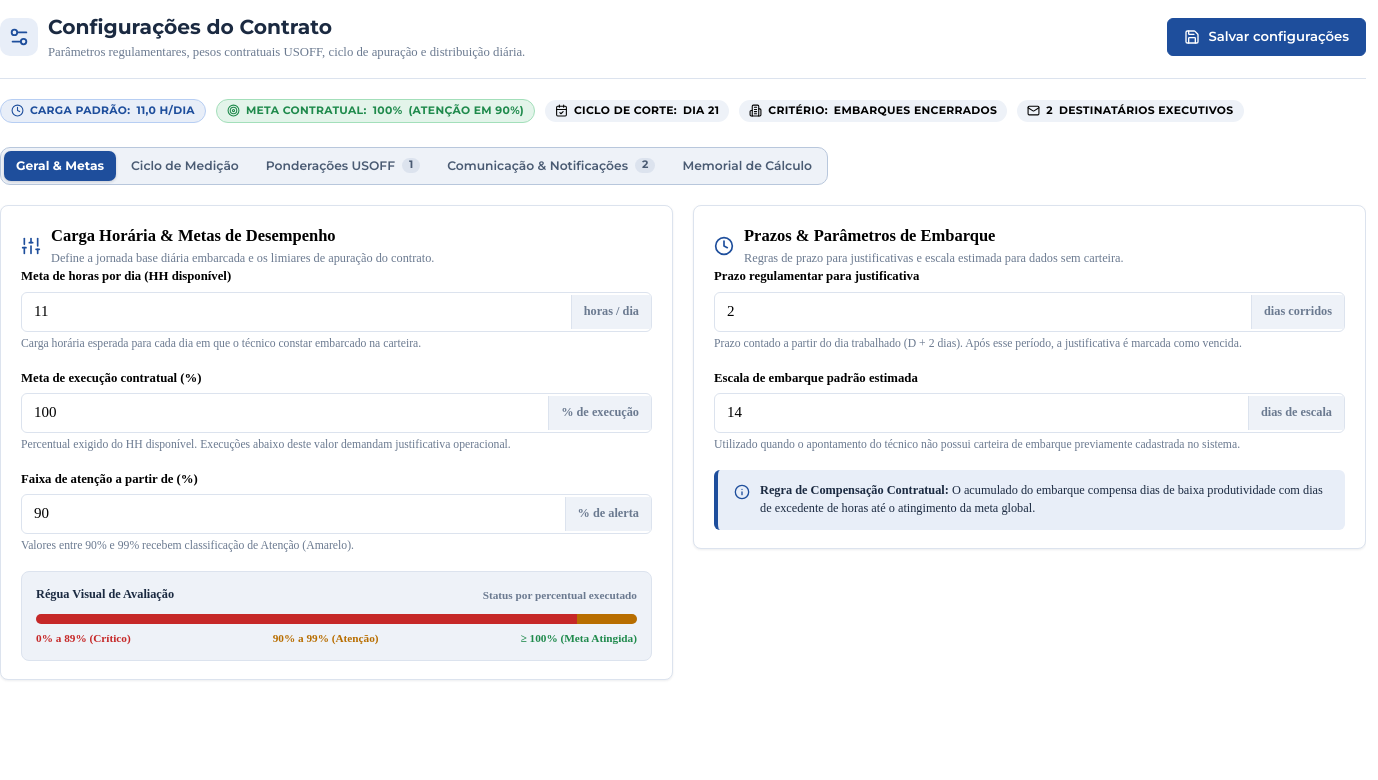
Test: ConfiguracoesView (Central de Parametrização Contratual) › 3. Permite alternar para a aba Ciclo de Medição e selecionar dia de corte e critério
The image size is (1378, 780).
Click the tab "Ciclo de Medição" at (185, 166), box [119,151,251,181]
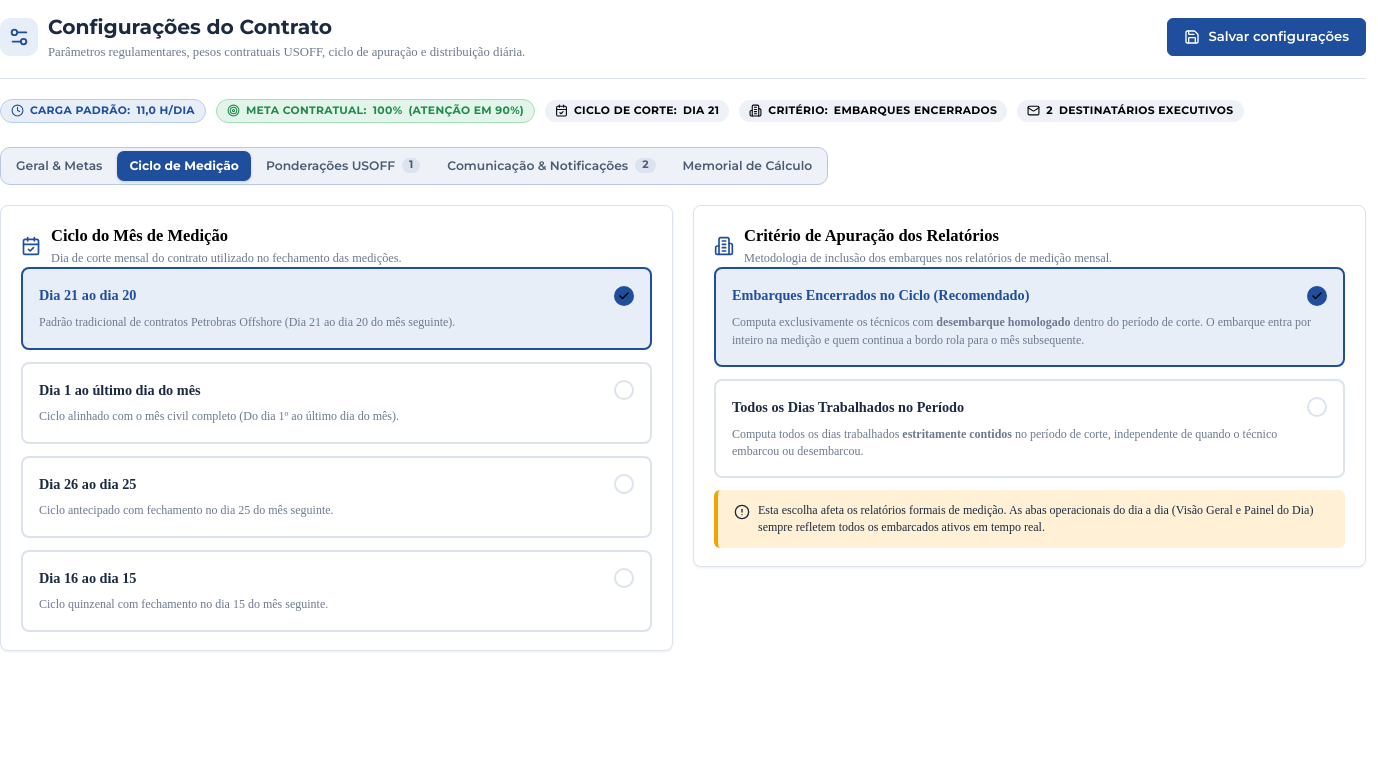
expect the heading "Ciclo do Mês de Medição" is shown: met, box [51,226,228,245]
expect the text "Embarques Encerrados no Ciclo (Recomendado)" is shown: met, box [732,286,1029,306]
Click the text "Todos os Dias Trabalhados no Período" at (848, 407), box [732,397,964,418]
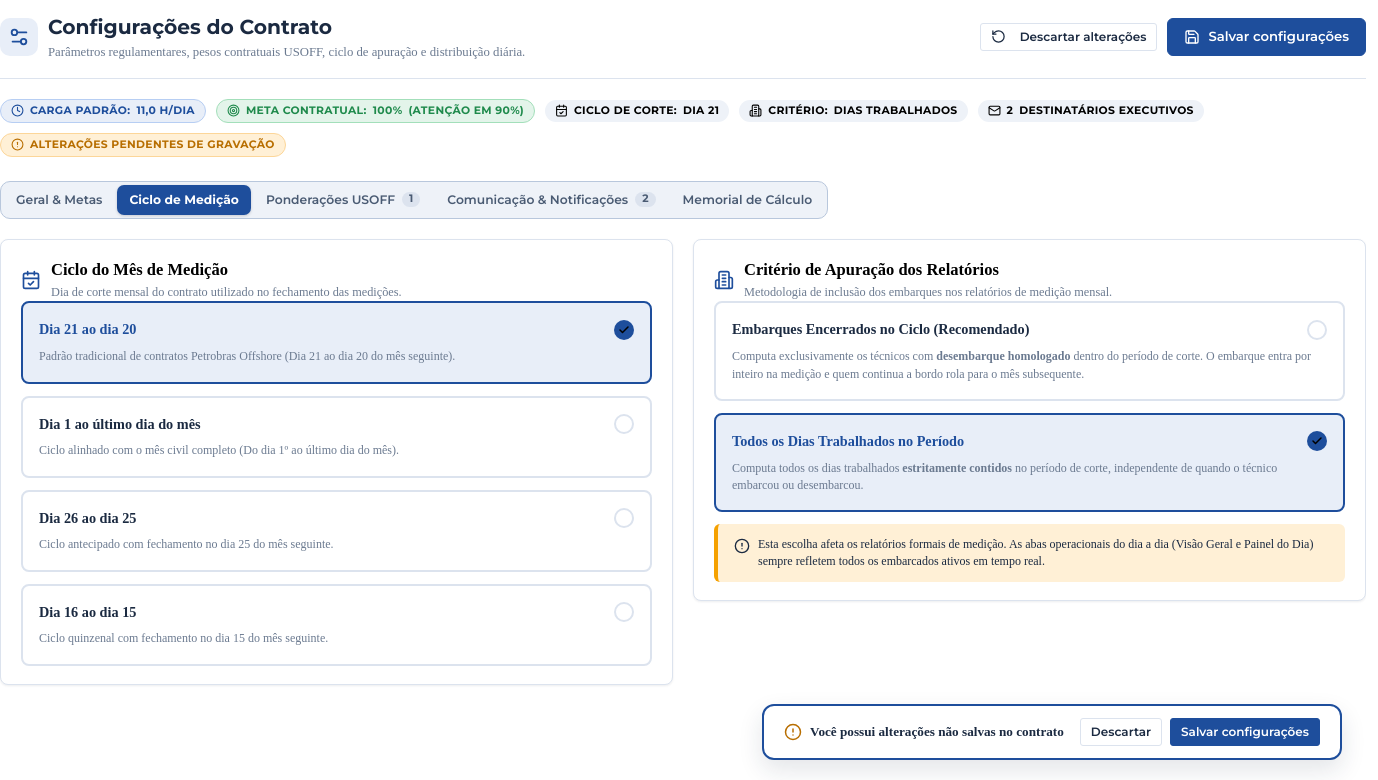
expect the text "Você possui alterações não salvas no contrato" is shown: met, box [810,722,1064,742]
